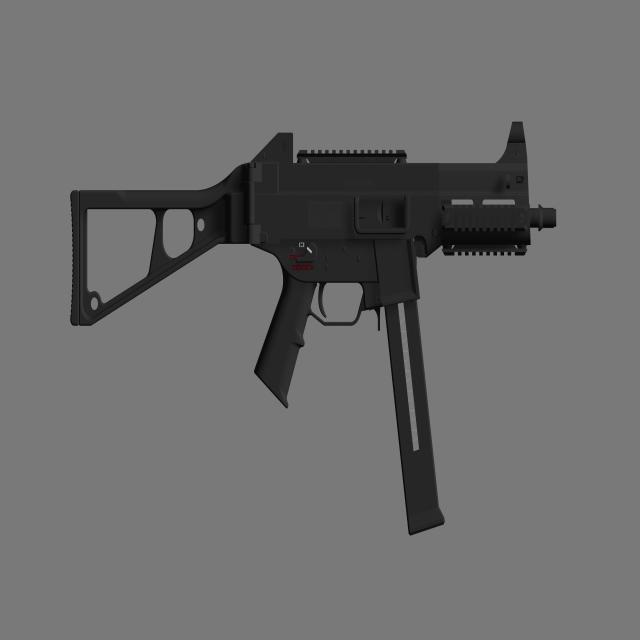Gun: (49, 86, 562, 581)
